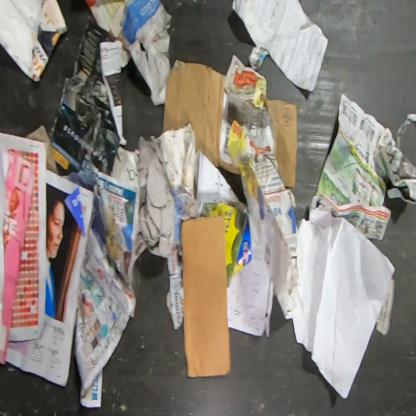cardboard: (162, 58, 298, 189), (180, 215, 231, 378)
